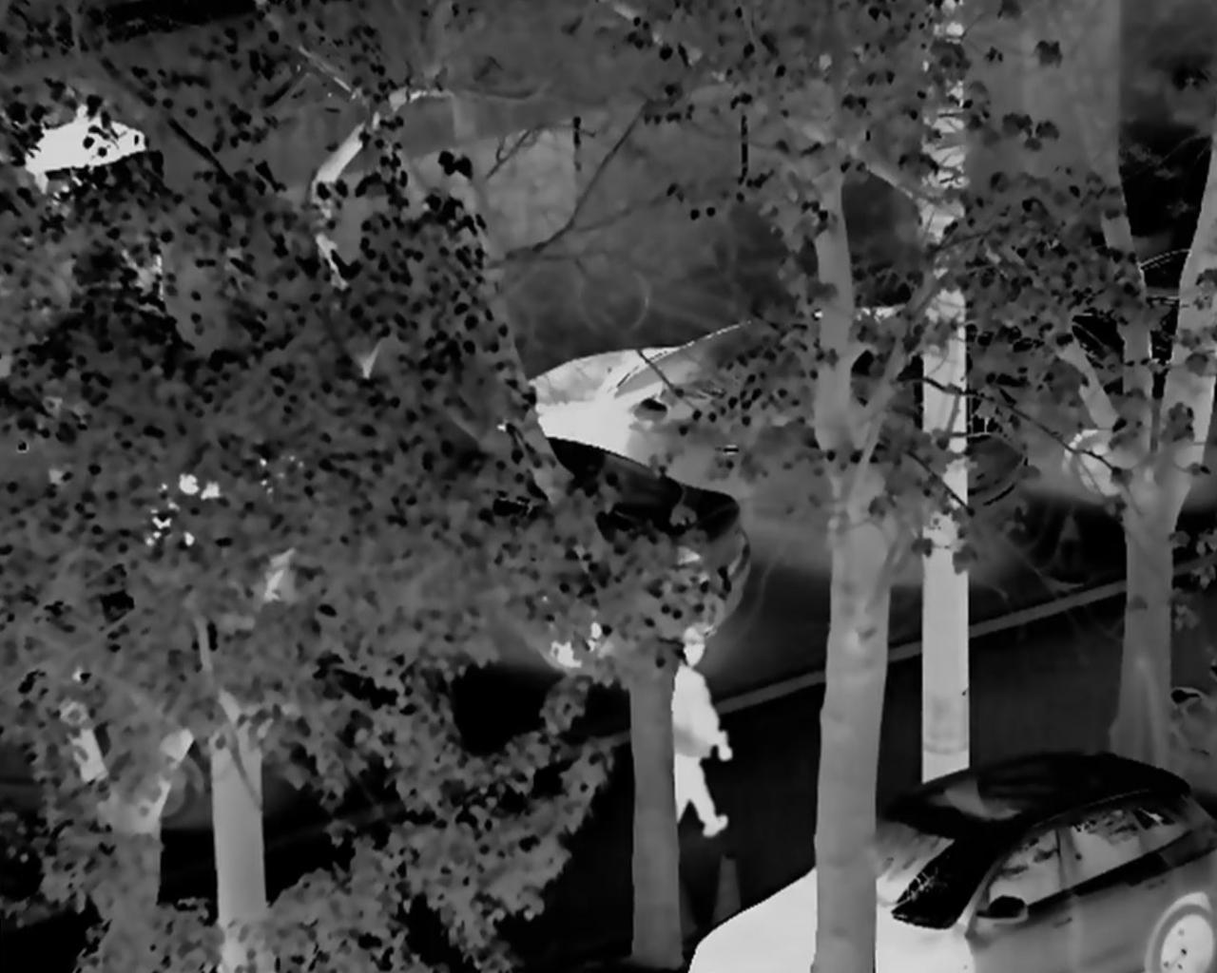person: (641, 616, 729, 849)
